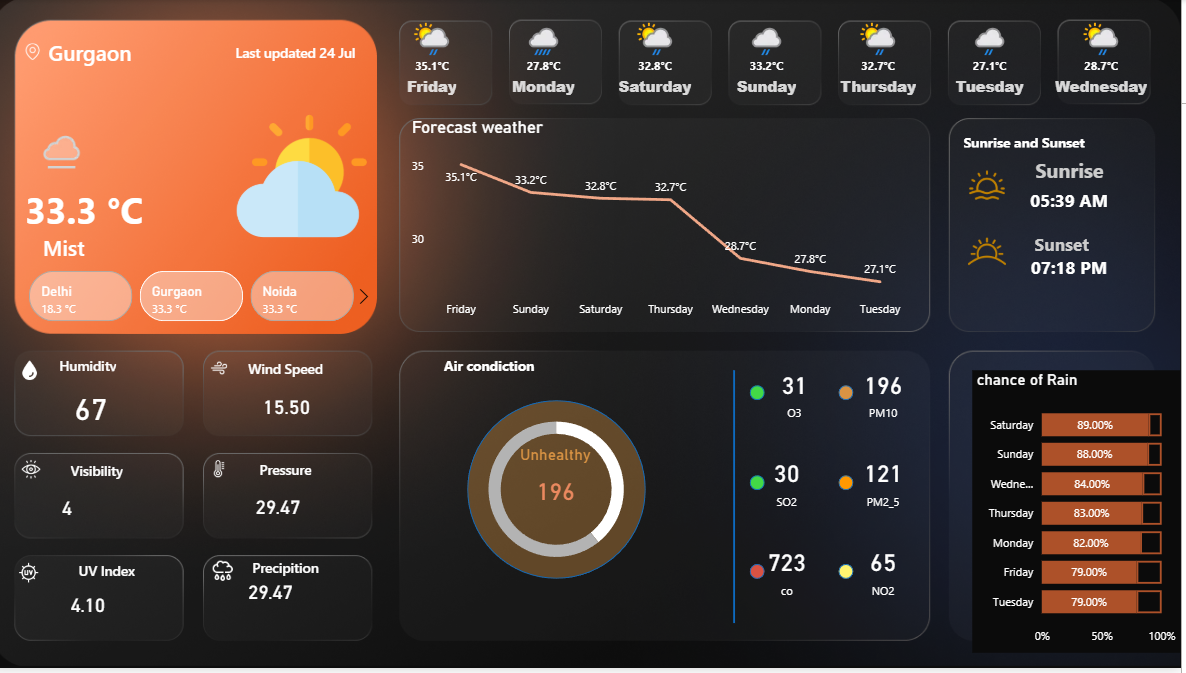

The dashboard page shown, as its layout file describes it:
{"tool":"powerbi","page":{"name":"Page 1","canvas":[1280,720],"ordinal":0},"visuals":[{"type":"shape","box":[512,432,192,192],"z":0},{"type":"donutChart","fields":{"Y":["Sum(Current_data.current.air_quality.pm10)","_Measures.left_value_PM10"]},"box":[496,432,224,192],"z":1000},{"type":"advancedSlicerVisual","fields":{"Values":["Locations.location.name"]},"box":[16,288,400,64],"z":2000},{"type":"shape","box":[8,201,184,49],"z":3000},{"type":"shape","box":[17,250,122,34],"z":4000},{"type":"shape","box":[8,35,197,44],"z":5000},{"type":"shape","box":[259,39,136,36],"z":6000},{"type":"image","box":[26,43,39,27],"z":7000},{"type":"cardVisual","fields":{"Data":["Min(Current_data.current.condition.icon)"]},"box":[26,116,103,85],"z":8000},{"type":"image","box":[26,382,32,35],"z":9000},{"type":"shape","box":[32,384,144,16],"z":10000},{"type":"image","box":[259,116,150,150],"z":11000},{"type":"image","box":[28,489,30,33],"z":12000},{"type":"image","box":[231,381,28,32],"z":13000},{"type":"image","box":[23,601,35,32],"z":14000},{"type":"image","box":[231,597,36,36],"z":15000},{"type":"shape","box":[249,382,136,31],"z":16000},{"type":"shape","box":[249,496,136,19],"z":17000},{"type":"shape","box":[249,601,136,20],"z":18000},{"type":"shape","box":[56,604,136,22],"z":19000},{"type":"shape","box":[46,493,136,26],"z":20000},{"type":"image","box":[231,488,28,34],"z":21000},{"type":"cardVisual","fields":{"Data":["Sum(Current_data.current.humidity)"]},"box":[73,398,81,61],"z":22000},{"type":"cardVisual","title":"kph","fields":{"Data":["Sum(Current_data.current.wind_kph)"]},"box":[276,398,109,73],"z":23000},{"type":"cardVisual","fields":{"Data":["Sum(Current_data.current.pressure_in)"]},"box":[267,505,109,73],"z":24000},{"type":"cardVisual","fields":{"Data":["Sum(Current_data.current.pressure_in)"]},"box":[259,597,109,73],"z":25000},{"type":"cardVisual","fields":{"Data":["Sum(Current_data.current.uv)"]},"box":[68.6,611.4,110,72.9],"z":26000},{"type":"cardVisual","fields":{"Data":["Sum(Current_data.current.vis_km)"]},"box":[58.6,507.1,110,72.9],"z":27000},{"type":"advancedSlicerVisual","fields":{"Values":["Forcast_day.day_name"]},"box":[408.3,0,856.7,116.7],"z":28000},{"type":"lineChart","title":"Forecast weather ","fields":{"Category":["Forcast_day.day_name"],"Y":["Sum(Forcast_day.forecast.forecastday.day.avgtemp_c)"]},"box":[448,128,544,224],"z":29000},{"type":"shape","box":[1024,144,176,16],"z":30000},{"type":"shape","box":[1104,192,112,48],"z":31000},{"type":"shape","box":[1104,256,112,64],"z":32000},{"type":"shape","box":[1104,160,112,48],"z":33000},{"type":"shape","box":[1104,240,96,48],"z":34000},{"type":"image","box":[1040,240,64,64],"z":35000},{"type":"image","box":[1040,176,64,48],"z":36000},{"type":"hundredPercentStackedBarChart","title":"chance of Rain","fields":{"Y":["Sum(Forcast_day.forecast.forecastday.day.daily_chance_of_rain)","Current_data.left_value_Rain"],"Category":["Forcast_day.day_name"]},"box":[1056,400,224,304],"z":37000},{"type":"cardVisual","fields":{"Data":["Sum(Current_data.current.air_quality.pm10)"]},"box":[912,384,96,80],"z":38000},{"type":"shape","box":[448,384,176,16],"z":39000},{"type":"cardVisual","fields":{"Data":["Sum(Current_data.current.air_quality.pm2_5)"]},"box":[912,480,96,80],"z":40000},{"type":"cardVisual","fields":{"Data":["Sum(Current_data.current.air_quality.no2)"]},"box":[912,576,96,80],"z":41000},{"type":"cardVisual","fields":{"Data":["Sum(Current_data.current.air_quality.co)"]},"box":[816,576,80,80],"z":42000},{"type":"cardVisual","fields":{"Data":["Sum(Current_data.current.air_quality.so2)"]},"box":[800,480,112,80],"z":43000},{"type":"cardVisual","fields":{"Data":["Sum(Current_data.current.air_quality.o3)"]},"box":[816,384,96,80],"z":44000},{"type":"shape","box":[816,416,16,16],"z":45000},{"type":"shape","box":[912,416,16,16],"z":46000},{"type":"shape","box":[816,512,16,16],"z":47000},{"type":"shape","box":[816,608,16,16],"z":48000},{"type":"shape","box":[912,512,16,16],"z":49000},{"type":"shape","box":[912,608,16,16],"z":50000},{"type":"shape","box":[720,400,160,272],"z":51000},{"type":"cardVisual","fields":{"Data":["Sum(Current_data.current.air_quality.pm10)"]},"box":[560,480,96,80],"z":52000}]}

Visuals, with their boxes in screenshot pixels (x1, y1, x2, y2), scaled from the page's 1280x720 canvas onto the 1186x673 screenshot:
shape: select_region(474, 404, 652, 583)
donutChart - Sum(Current_data.current.air_quality.pm10) x _Measures.left_value_PM10: select_region(460, 404, 667, 583)
advancedSlicerVisual - Locations.location.name: select_region(15, 269, 385, 329)
shape: select_region(7, 188, 178, 234)
shape: select_region(16, 234, 129, 265)
shape: select_region(7, 33, 190, 74)
shape: select_region(240, 36, 366, 70)
image: select_region(24, 40, 60, 65)
cardVisual - Min(Current_data.current.condition.icon): select_region(24, 108, 120, 188)
image: select_region(24, 357, 54, 390)
shape: select_region(30, 359, 163, 374)
image: select_region(240, 108, 379, 249)
image: select_region(26, 457, 54, 488)
image: select_region(214, 356, 240, 386)
image: select_region(21, 562, 54, 592)
image: select_region(214, 558, 247, 592)
shape: select_region(231, 357, 357, 386)
shape: select_region(231, 464, 357, 481)
shape: select_region(231, 562, 357, 580)
shape: select_region(52, 565, 178, 585)
shape: select_region(43, 461, 169, 485)
image: select_region(214, 456, 240, 488)
cardVisual - Sum(Current_data.current.humidity): select_region(68, 372, 143, 429)
"kph" cardVisual: select_region(256, 372, 357, 440)
cardVisual - Sum(Current_data.current.pressure_in): select_region(247, 472, 348, 540)
cardVisual - Sum(Current_data.current.pressure_in): select_region(240, 558, 341, 626)
cardVisual - Sum(Current_data.current.uv): select_region(64, 571, 165, 640)
cardVisual - Sum(Current_data.current.vis_km): select_region(54, 474, 156, 542)
advancedSlicerVisual - Forcast_day.day_name: select_region(378, 0, 1172, 109)
"Forecast weather " lineChart: select_region(415, 120, 919, 329)
shape: select_region(949, 135, 1112, 150)
shape: select_region(1023, 179, 1127, 224)
shape: select_region(1023, 239, 1127, 299)
shape: select_region(1023, 150, 1127, 194)
shape: select_region(1023, 224, 1112, 269)
image: select_region(964, 224, 1023, 284)
image: select_region(964, 165, 1023, 209)
"chance of Rain" hundredPercentStackedBarChart: select_region(978, 374, 1185, 658)
cardVisual - Sum(Current_data.current.air_quality.pm10): select_region(845, 359, 934, 434)
shape: select_region(415, 359, 578, 374)
cardVisual - Sum(Current_data.current.air_quality.pm2_5): select_region(845, 449, 934, 523)
cardVisual - Sum(Current_data.current.air_quality.no2): select_region(845, 538, 934, 613)
cardVisual - Sum(Current_data.current.air_quality.co): select_region(756, 538, 830, 613)
cardVisual - Sum(Current_data.current.air_quality.so2): select_region(741, 449, 845, 523)
cardVisual - Sum(Current_data.current.air_quality.o3): select_region(756, 359, 845, 434)
shape: select_region(756, 389, 771, 404)
shape: select_region(845, 389, 860, 404)
shape: select_region(756, 479, 771, 494)
shape: select_region(756, 568, 771, 583)
shape: select_region(845, 479, 860, 494)
shape: select_region(845, 568, 860, 583)
shape: select_region(667, 374, 815, 628)
cardVisual - Sum(Current_data.current.air_quality.pm10): select_region(519, 449, 608, 523)
